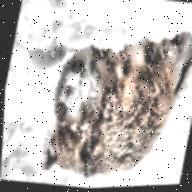boar: (23, 6, 192, 191)
